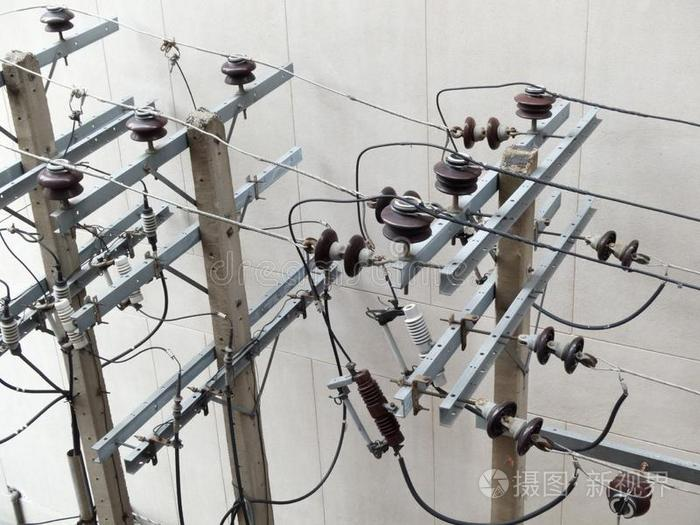insulator: (481, 398, 538, 455), (307, 226, 367, 276), (533, 325, 584, 374), (594, 231, 643, 273)
